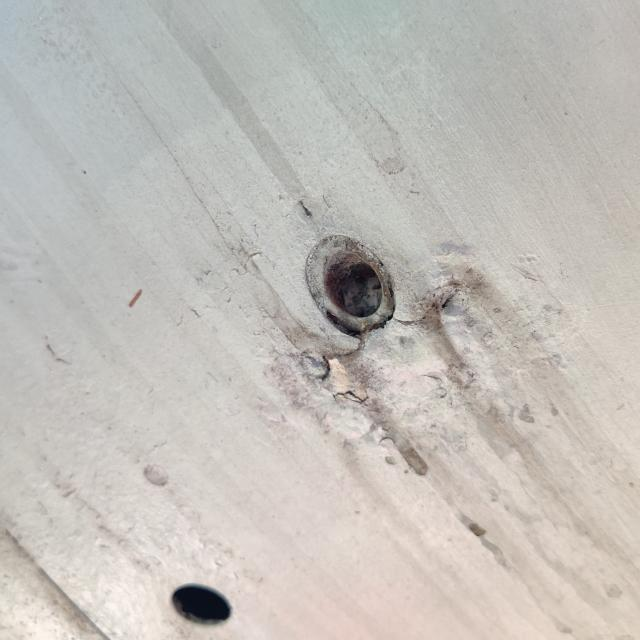crack: (292, 331, 382, 410)
